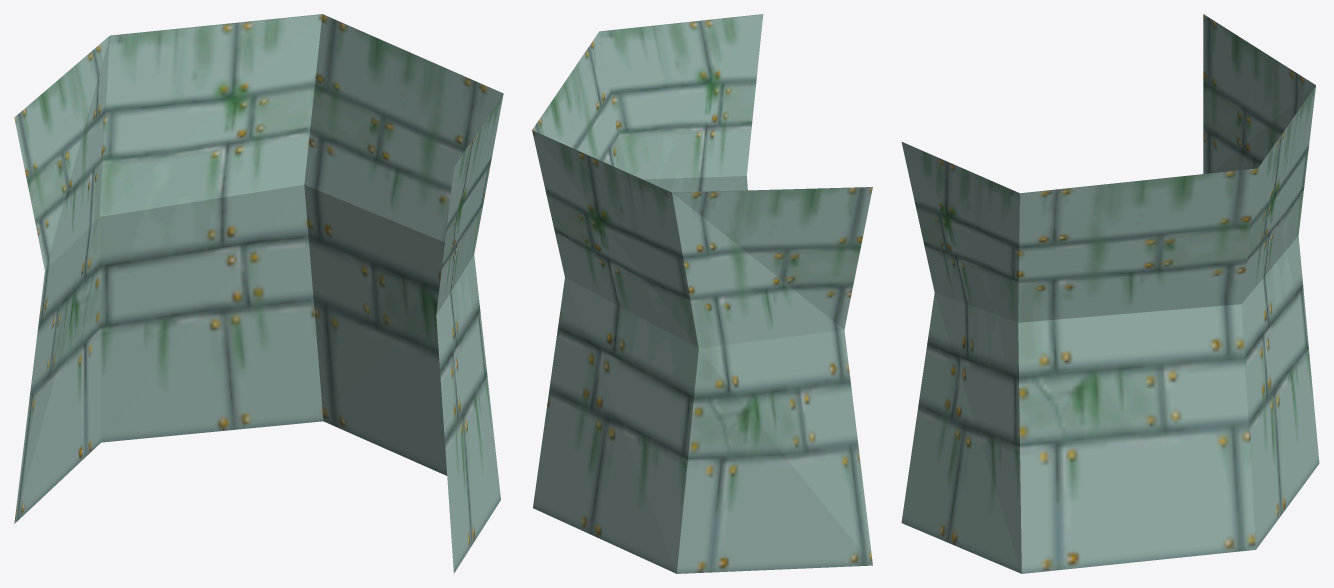
File: W_Erker_Hinterseite_Gedreht_1670.glb
The picture shows the model from 3 angles, left to right: view 1: azimuth 30°, elevation 25°; view 2: azimuth 150°, elevation 25°; view 3: azimuth 270°, elevation 25°; orthographic projection. The views are drawn at different scales.
Parts seen in each view (by area): view 1: pPlaneShape6; view 2: pPlaneShape6; view 3: pPlaneShape6.
Boxes of the visible parts, left/top/right/bottom form: pPlaneShape6: left=14, top=14, right=503, bottom=573; pPlaneShape6: left=532, top=14, right=872, bottom=573; pPlaneShape6: left=901, top=14, right=1319, bottom=573.
Size of the model in its own units: 0.3513 by 0.3486 by 0.3462.
Materials: 1 (1 with a texture image).
